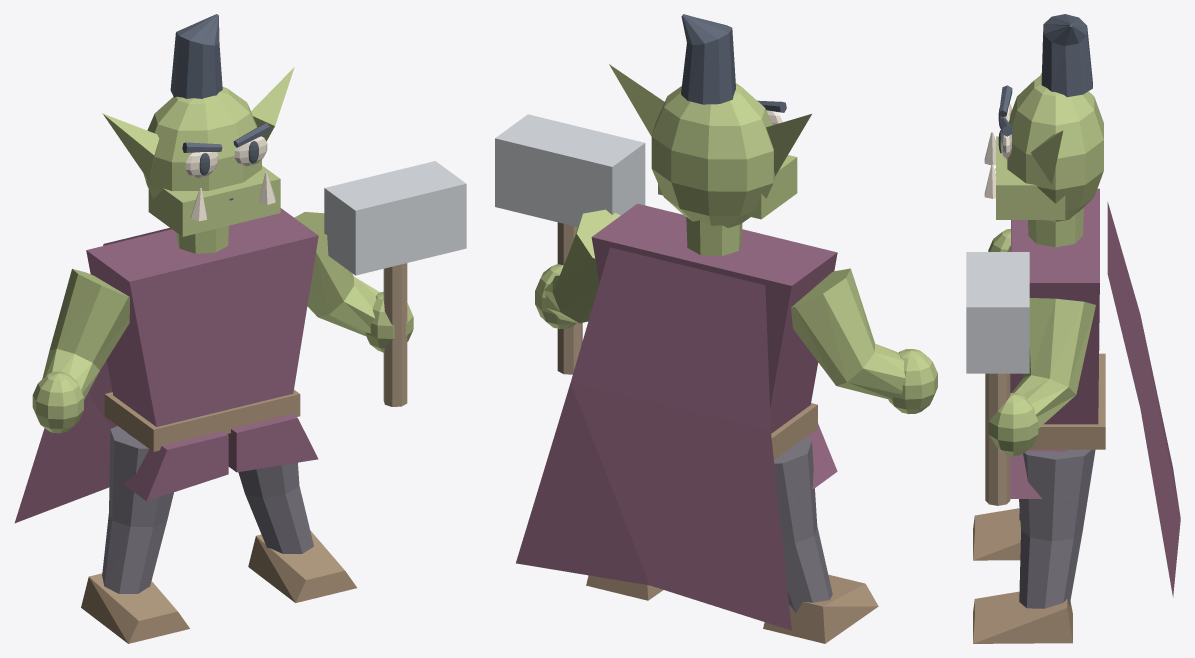
Rendered from chieftain.glb.
The picture shows the model from 3 angles, left to right: view 1: azimuth 30°, elevation 25°; view 2: azimuth 150°, elevation 25°; view 3: azimuth 270°, elevation 25°; orthographic projection. The views are drawn at different scales.
Visible parts, largest first — view 1: torso, hammer_head, head, cape, leg_-1, arm_-1, jaw, leg_1, belt, tunic_hem_-1, arm_1, foot_-1 (+9 smaller); view 2: cape, torso, head, hammer_head, arm_-1, leg_-1, topknot, arm_1, foot_-1, hand_-1, hammer_handle, neck (+7 smaller); view 3: leg_1, head, torso, hammer_head, cape, arm_1, foot_1, topknot, jaw, hammer_handle, belt, foot_-1 (+5 smaller).
Part boxes in pixels (bbox=[...]): torso: bbox=[86, 208, 318, 426]; hammer_head: bbox=[324, 161, 466, 275]; head: bbox=[143, 87, 261, 199]; cape: bbox=[14, 228, 171, 523]; leg_-1: bbox=[102, 426, 173, 593]; arm_-1: bbox=[42, 268, 129, 399]; jaw: bbox=[148, 165, 280, 236]; leg_1: bbox=[238, 462, 313, 553]; belt: bbox=[104, 389, 300, 451]; tunic_hem_-1: bbox=[111, 431, 228, 501]; arm_1: bbox=[294, 212, 379, 336]; foot_-1: bbox=[81, 573, 189, 643]; cape: bbox=[516, 247, 791, 630]; torso: bbox=[591, 203, 837, 433]; head: bbox=[651, 83, 775, 227]; hammer_head: bbox=[495, 114, 645, 226]; arm_-1: bbox=[791, 268, 905, 399]; leg_-1: bbox=[774, 437, 832, 612]; topknot: bbox=[681, 14, 735, 104]; arm_1: bbox=[544, 209, 620, 323]; foot_-1: bbox=[763, 574, 878, 643]; hand_-1: bbox=[888, 349, 937, 414]; hammer_handle: bbox=[557, 222, 582, 374]; neck: bbox=[686, 217, 742, 256]; leg_1: bbox=[1019, 449, 1095, 608]; head: bbox=[1007, 74, 1103, 221]; torso: bbox=[1010, 188, 1099, 424]; hammer_head: bbox=[966, 252, 1029, 373]; cape: bbox=[1107, 202, 1180, 597]; arm_1: bbox=[1012, 298, 1095, 428]; foot_1: bbox=[973, 591, 1072, 643]; topknot: bbox=[1041, 14, 1092, 97]; jaw: bbox=[996, 136, 1065, 219]; hammer_handle: bbox=[985, 373, 1010, 505]; belt: bbox=[1029, 353, 1105, 449]; foot_-1: bbox=[973, 508, 1020, 560].
Size of the model in its own units: 1.59 by 2.1 by 0.7121.
